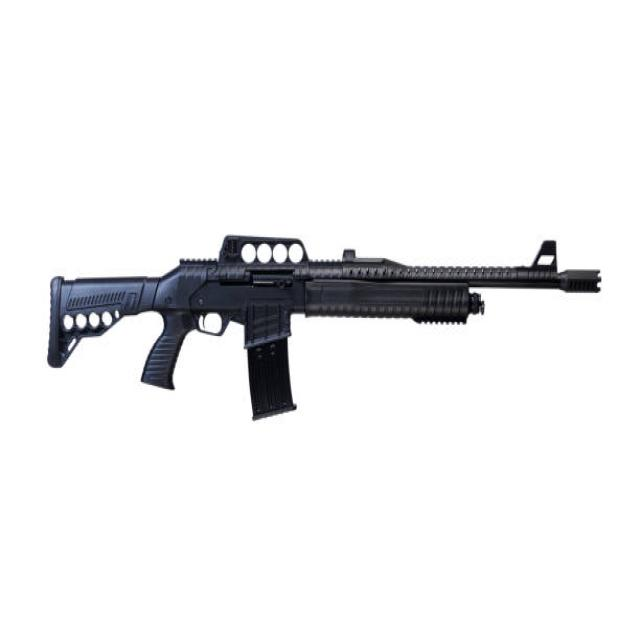rifle: (40, 215, 609, 442)
